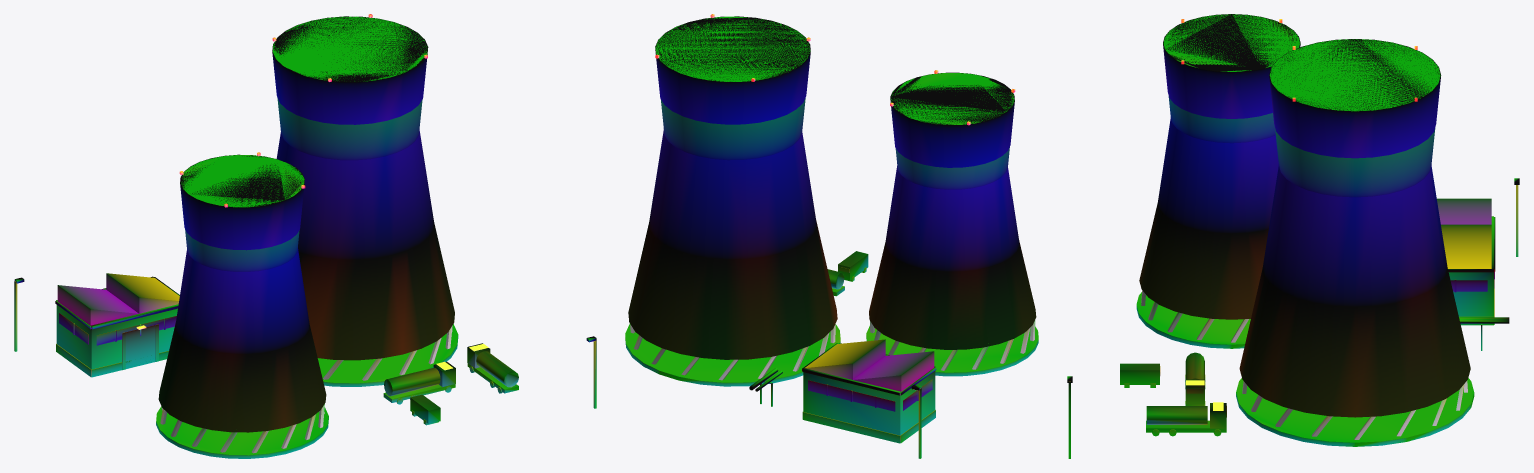
Rendered from Ind_Cooling.fbx.
The picture shows the model from 3 angles, left to right: view 1: azimuth 30°, elevation 25°; view 2: azimuth 150°, elevation 25°; view 3: azimuth 270°, elevation 25°; orthographic projection. The views are drawn at different scales.
Visible parts, largest first — view 1: Ind_Cooling_LOD0; view 2: Ind_Cooling_LOD0; view 3: Ind_Cooling_LOD0.
Part boxes in pixels (x1,y1,x2,y2): Ind_Cooling_LOD0: (14,14,596,458); Ind_Cooling_LOD0: (625,14,1038,458); Ind_Cooling_LOD0: (1067,14,1519,458).
Size of what is drawn, in the model's own units: 62.3 by 46.4 by 58.7.
